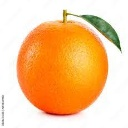orange: (14, 8, 122, 117)
